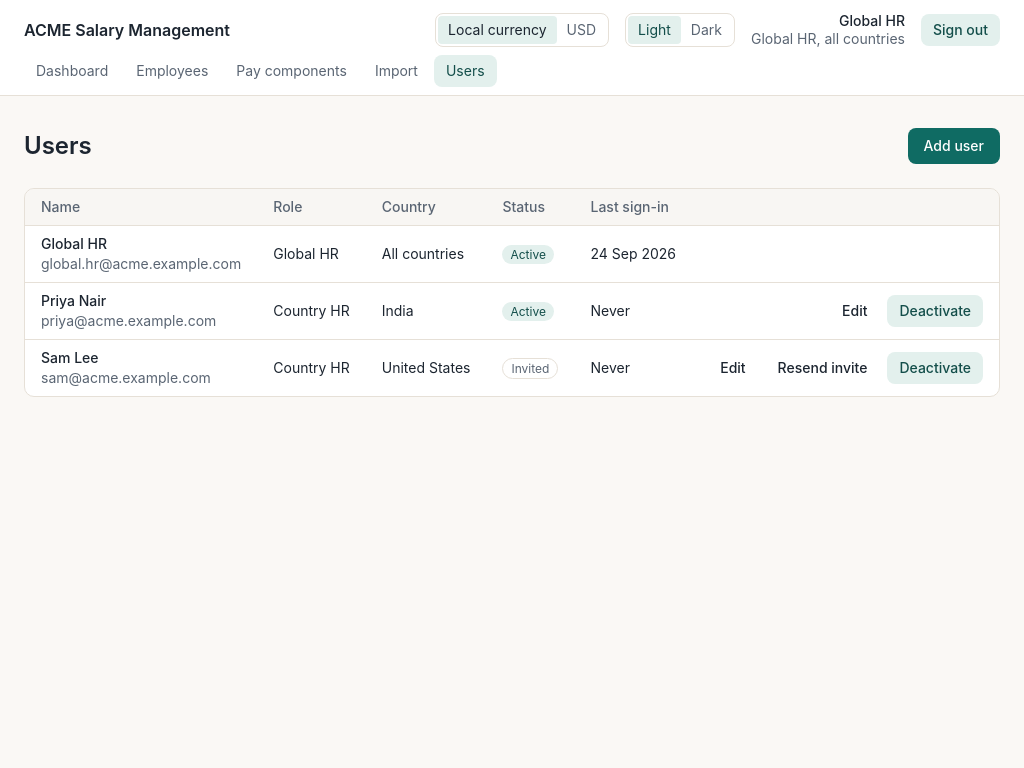
Test: UsersPage › shows the message from the API when the email is already used
The image size is (1024, 768).
Click the button "Add user".
click(954, 146)  # box [908,128,1000,164]
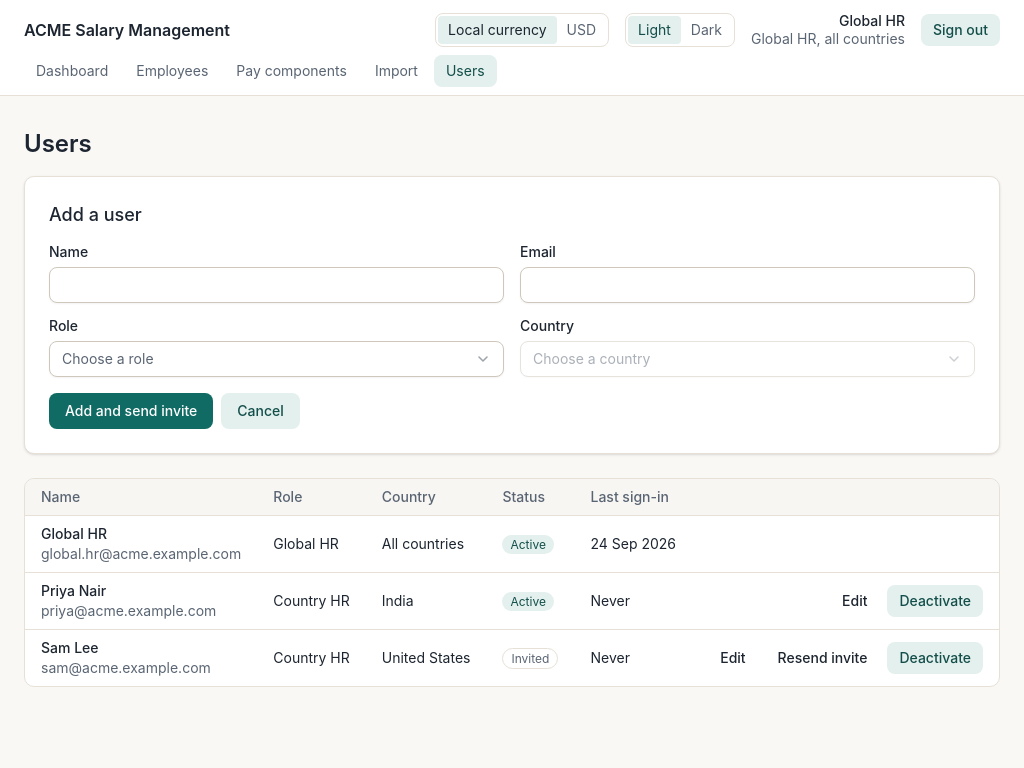
Type "Priya Again" into the field labelled "Name".
click(276, 285); type("Priya Again")  # box [49,267,504,303]
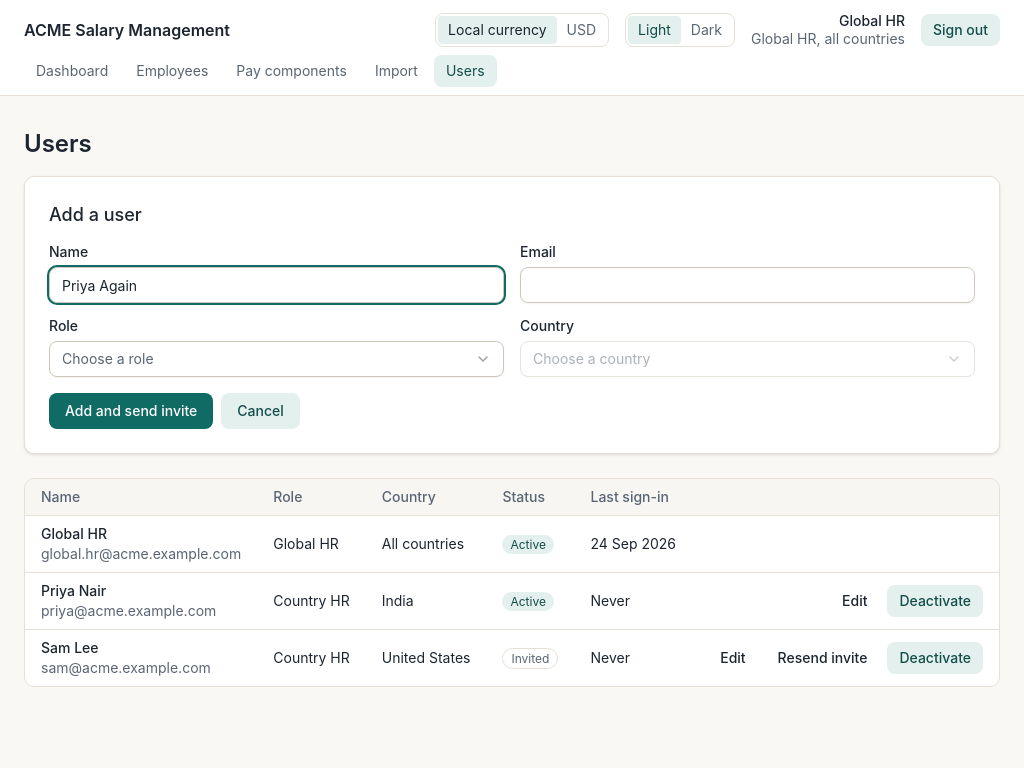
Type "priya@acme.example.com" into the field labelled "Email".
click(748, 285); type("priya@acme.example.com")  # box [520,267,975,303]
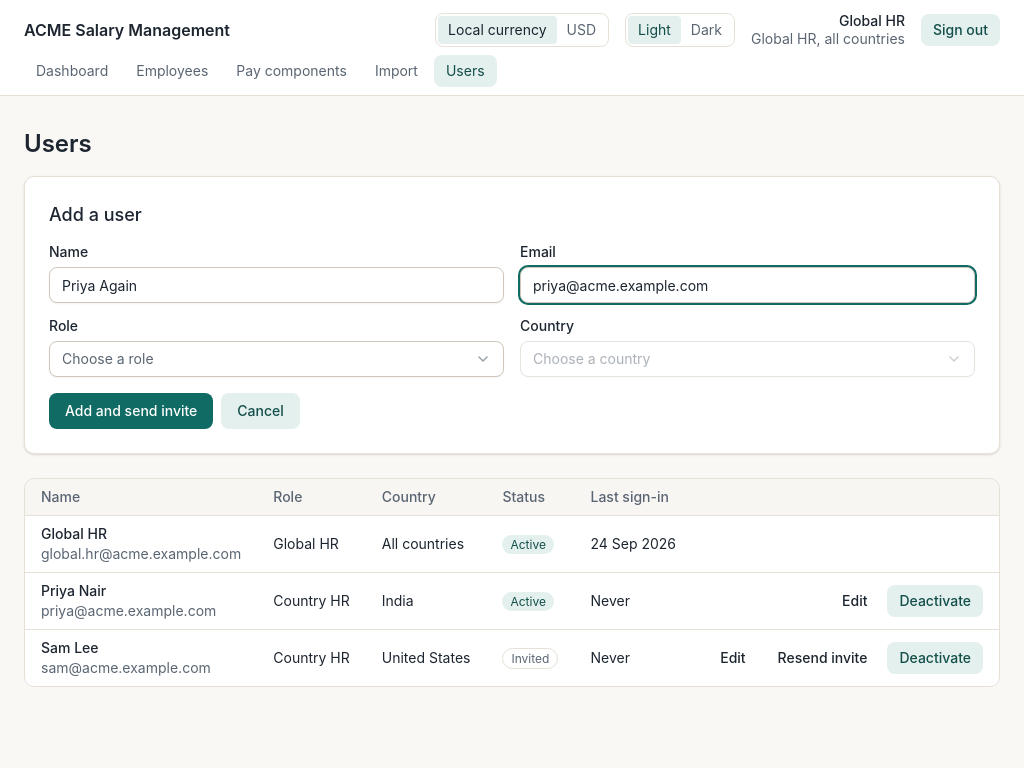
Click the dropdown labelled "role".
click(108, 358)  # box [49,341,504,377]
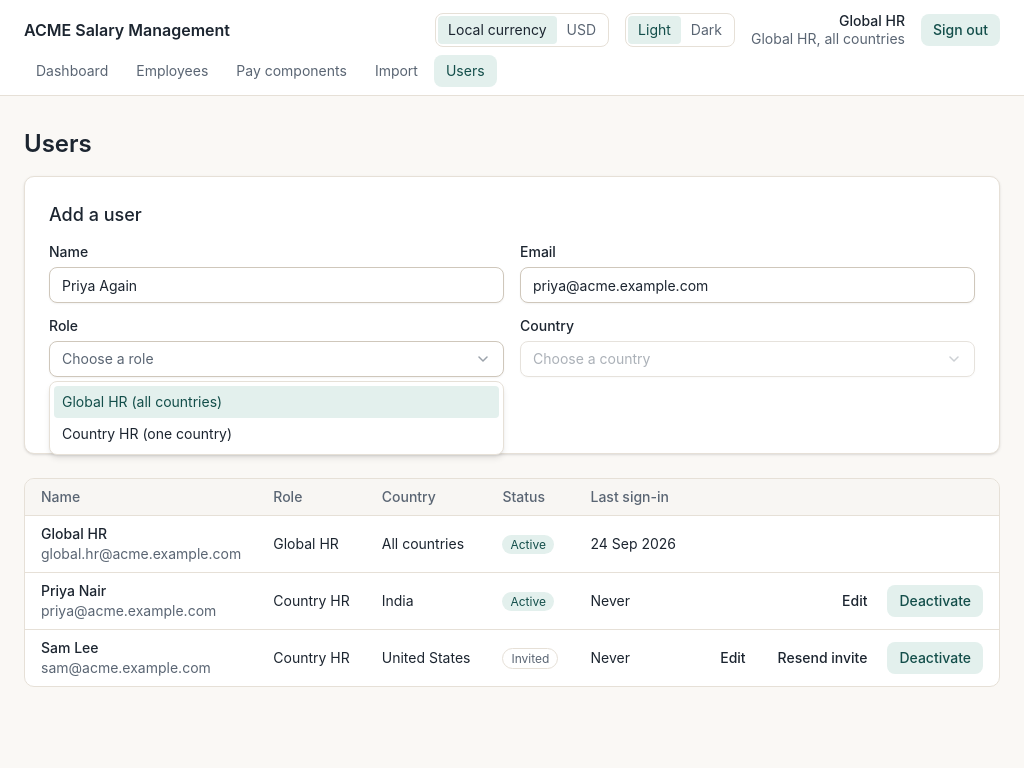
Click the option "Global HR (all countries)".
click(142, 402)  # box [54,386,499,418]
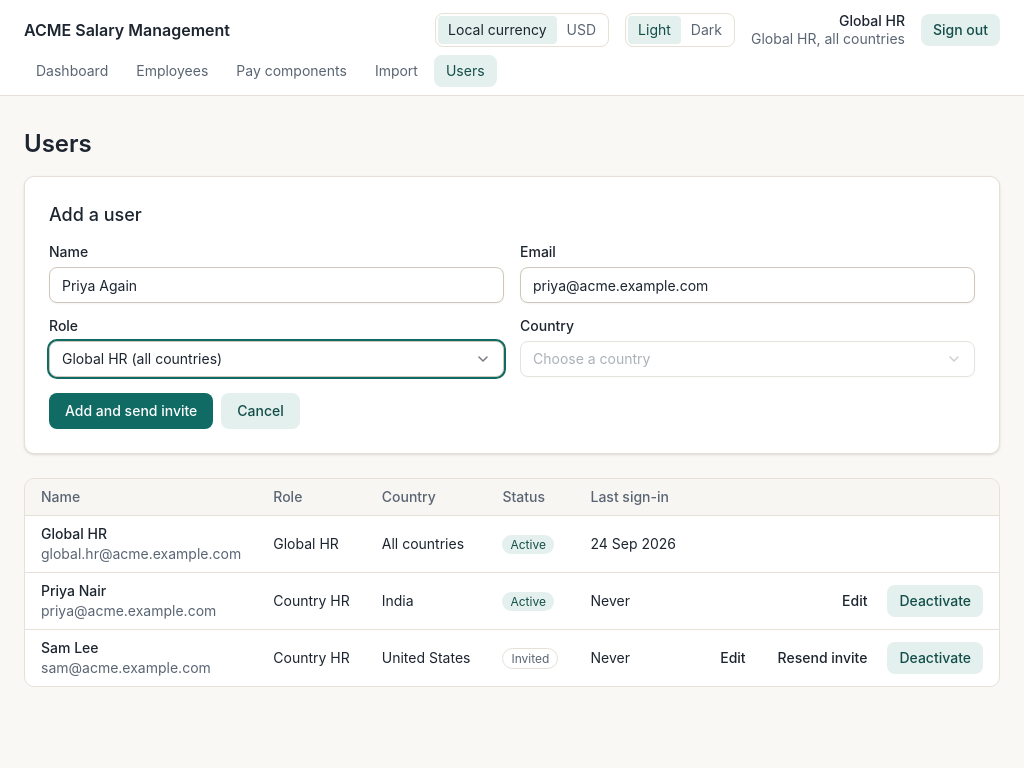
Click the button "Add and send invite".
click(131, 411)  # box [49,393,213,429]
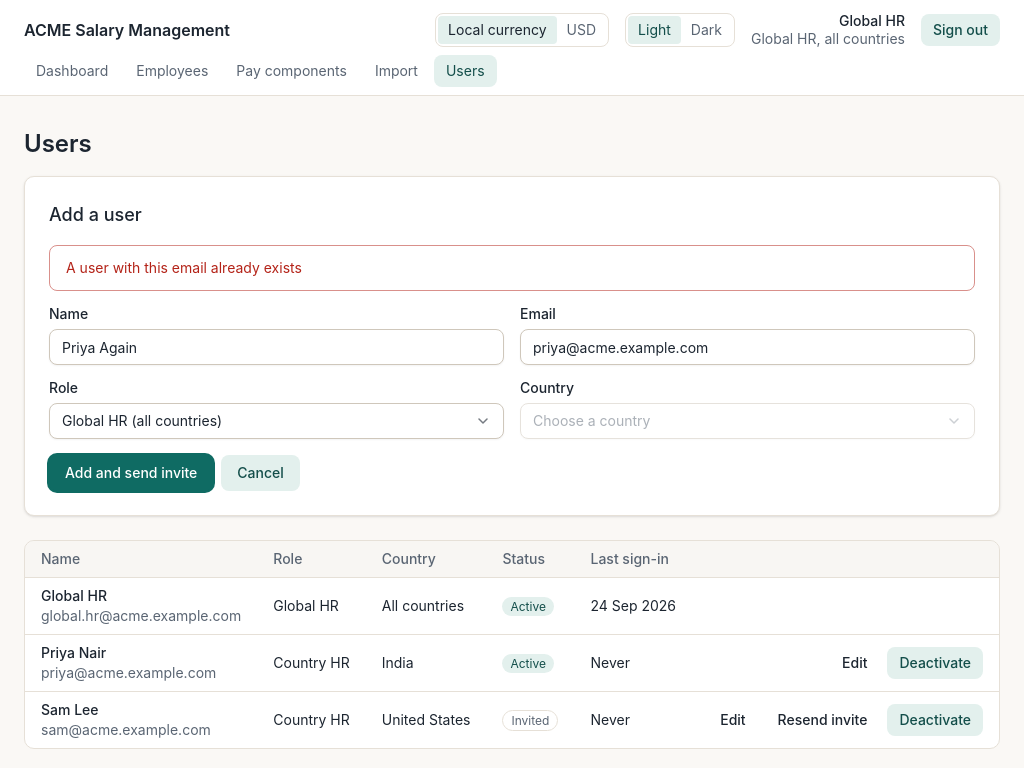
Expected: the message reads "A user with this email already exists", [66,259,302,276]
